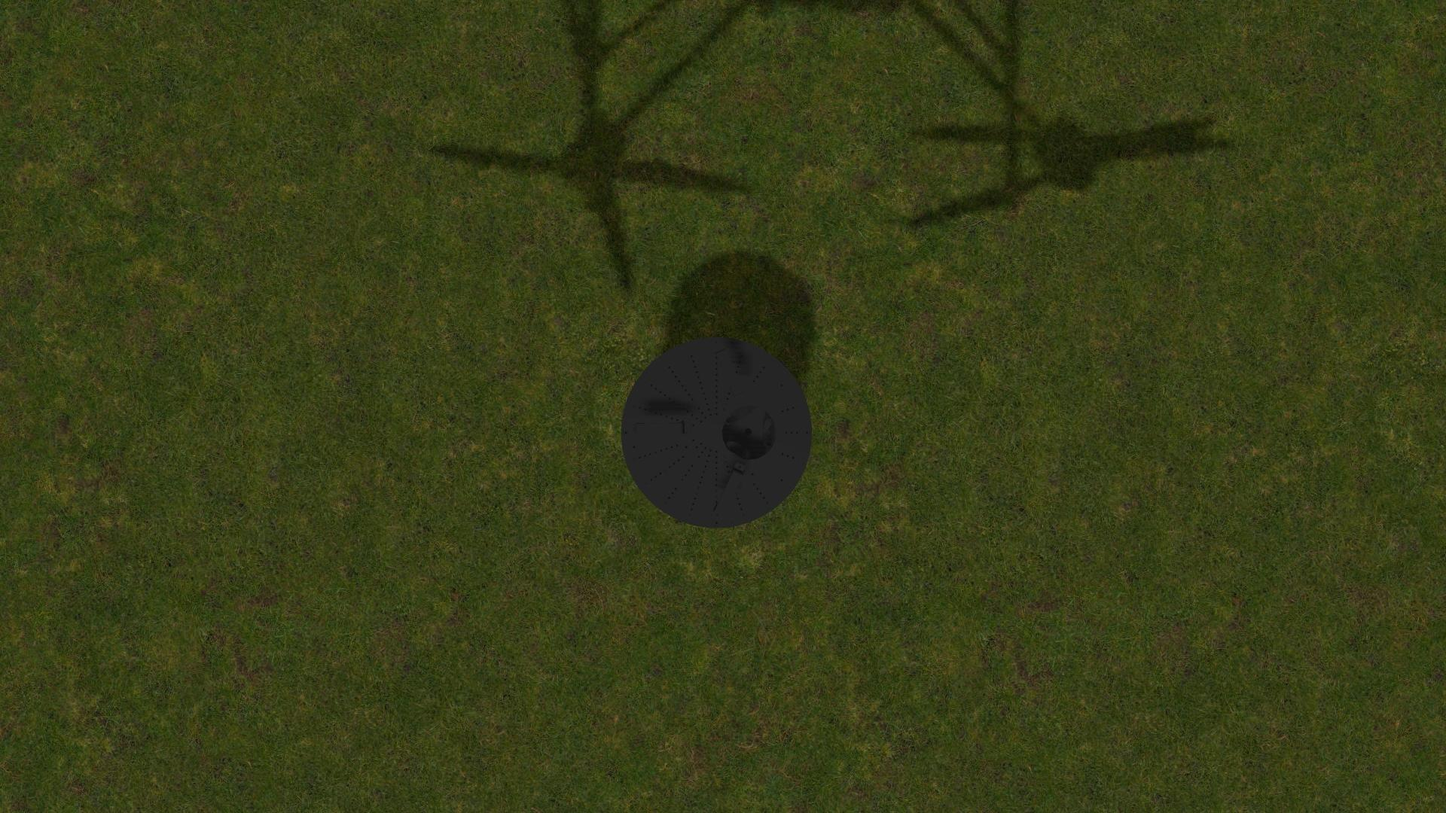alca: (711, 461, 746, 520), (713, 344, 747, 401), (631, 422, 691, 436)
armadilha: (621, 337, 812, 528)
